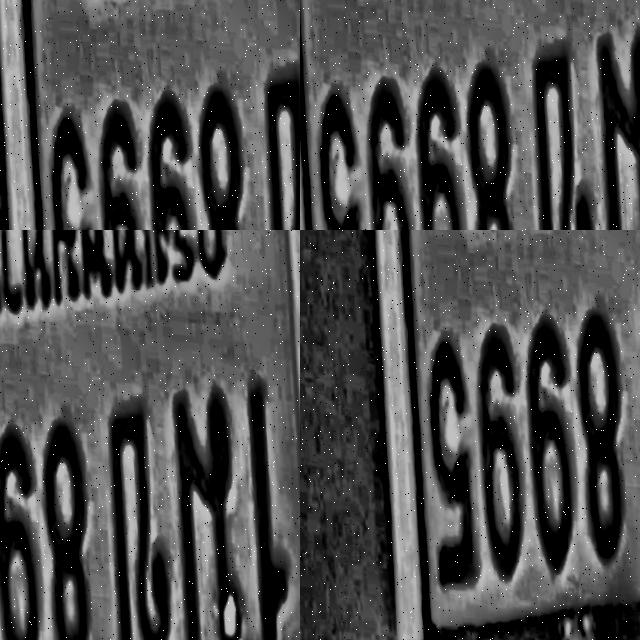license-plate: (336, 230, 640, 640)
